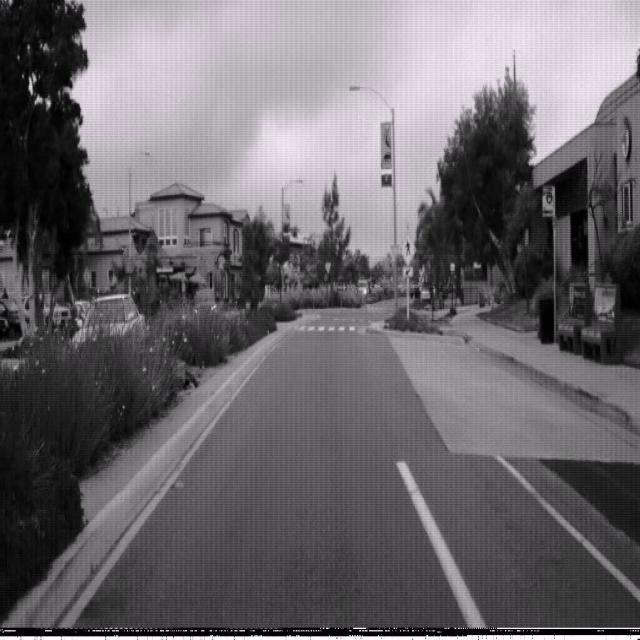pedestrianCrossing: (399, 230, 417, 265)
